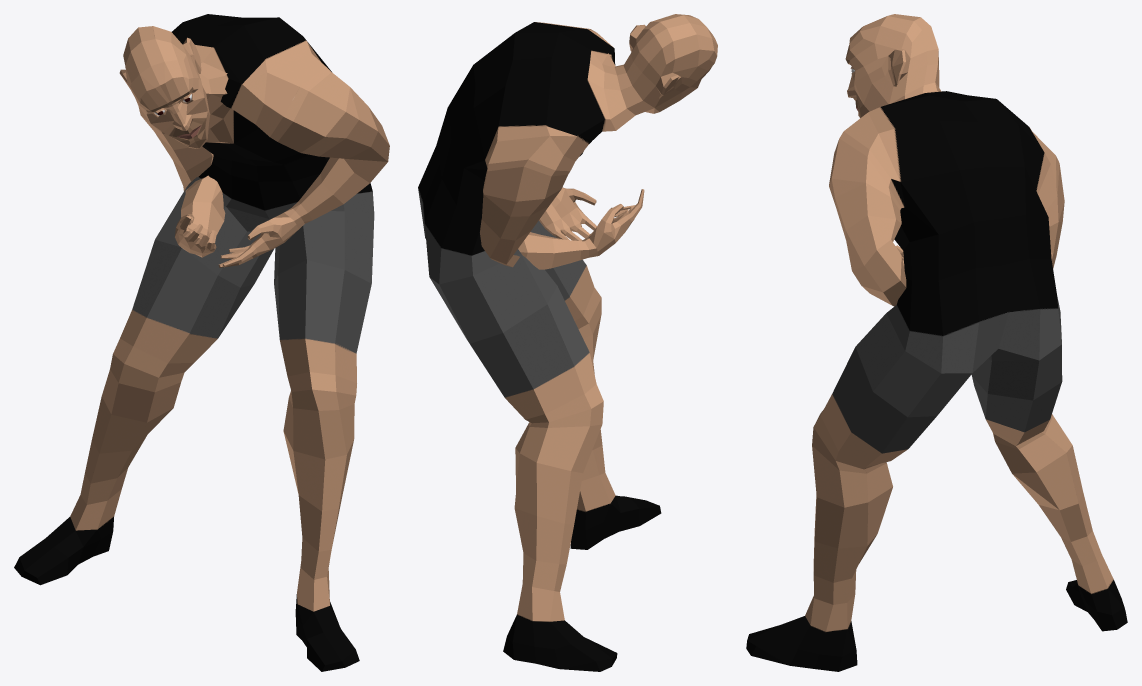
Rendered from PlayerDead(18).obj.
The picture shows the model from 3 angles, left to right: view 1: azimuth 30°, elevation 25°; view 2: azimuth 150°, elevation 25°; view 3: azimuth 270°, elevation 25°; orthographic projection. The views are drawn at different scales.
Visible parts, largest first — view 1: Plane002; view 2: Plane002; view 3: Plane002.
Boxes of the visible parts, x1,y1,x2,y2 form: Plane002: (14, 14, 389, 671); Plane002: (418, 14, 717, 671); Plane002: (746, 14, 1127, 671).
Bounding box in the file's own units: 666 × 1447 × 851.
